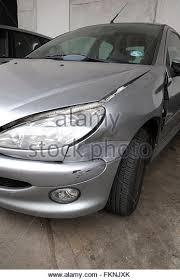Bonnet: (0, 54, 161, 140)
Bumper: (2, 155, 120, 218)
Fender: (60, 64, 167, 162)
